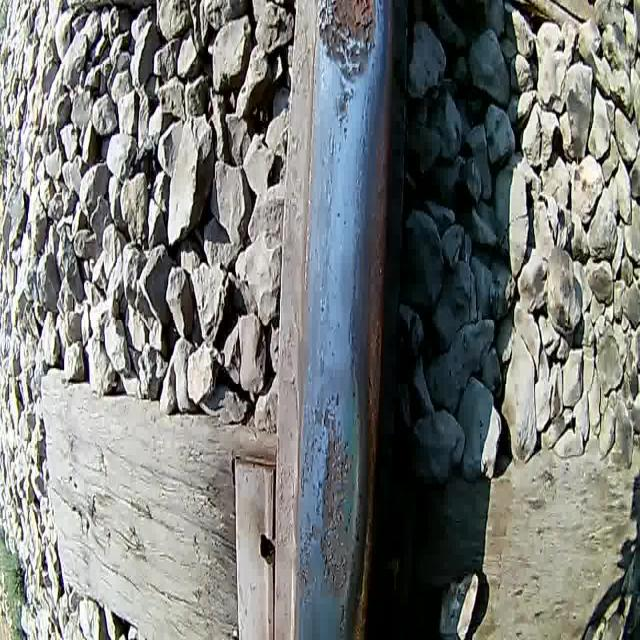Spallings: (316, 404, 358, 593), (318, 0, 379, 55)
Squats: (294, 386, 360, 640), (313, 0, 382, 150)
